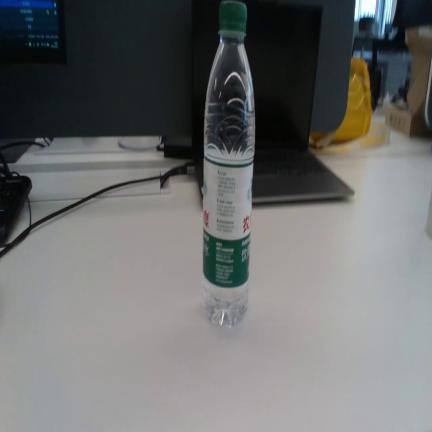bottle: (201, 1, 255, 327)
